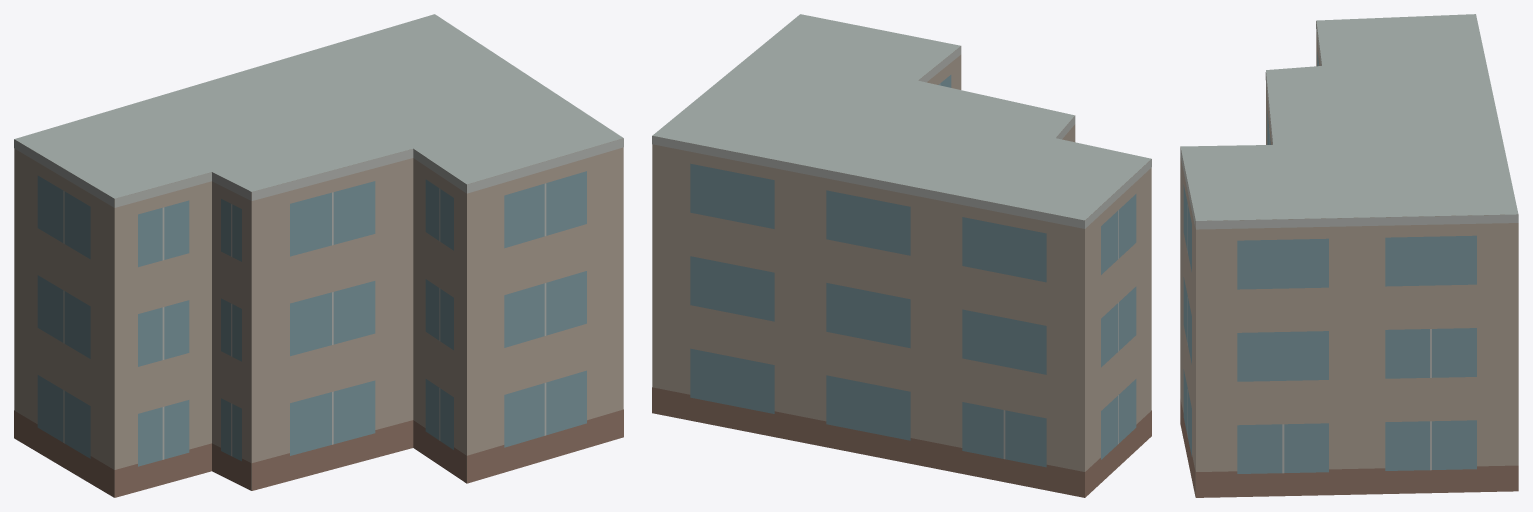
File: survey-upis-32594663.glb
3 renders of one model, left to right at view 1: azimuth 30°, elevation 25°; view 2: azimuth 150°, elevation 25°; view 3: azimuth 270°, elevation 25°, orthographic. The views are drawn at different scales.
Parts seen in each view (by area): view 1: survey-upis-32594663.tmp; view 2: survey-upis-32594663.tmp; view 3: survey-upis-32594663.tmp.
Part boxes in pixels (bbox=[...]): survey-upis-32594663.tmp: bbox=[14, 14, 623, 497]; survey-upis-32594663.tmp: bbox=[652, 14, 1151, 497]; survey-upis-32594663.tmp: bbox=[1180, 14, 1518, 497].
Size of the model in its own units: 12.68 by 7.9 by 8.76.
